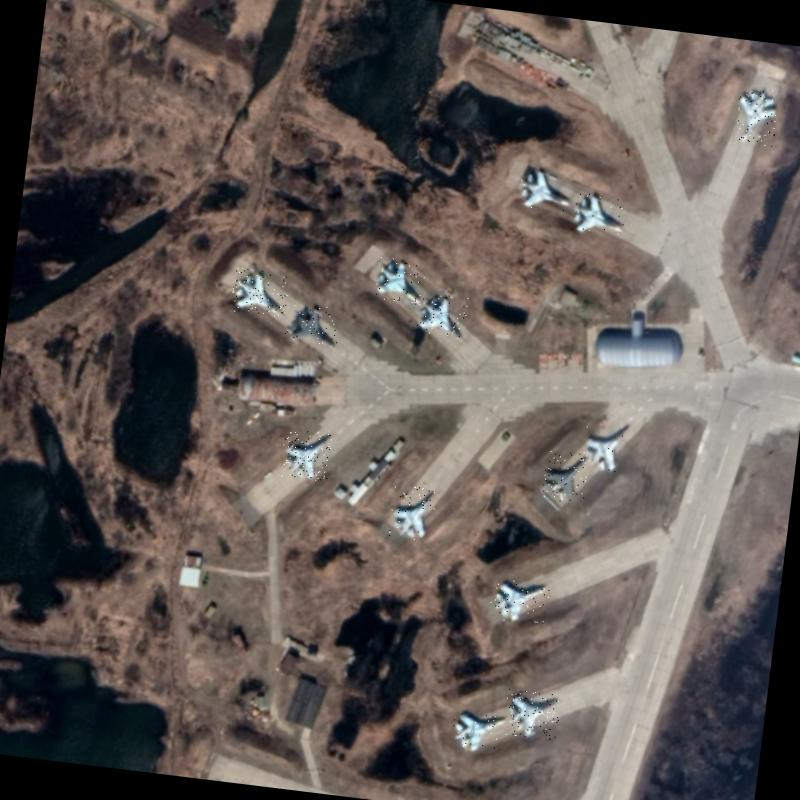A1: (488, 576, 550, 626), (502, 688, 561, 740), (278, 426, 332, 482), (230, 267, 290, 317), (732, 86, 780, 148), (514, 165, 574, 212), (388, 484, 436, 542), (567, 190, 627, 236), (372, 256, 426, 306), (448, 709, 507, 754), (541, 449, 589, 504), (413, 292, 469, 339), (282, 302, 340, 347), (581, 426, 625, 472)
